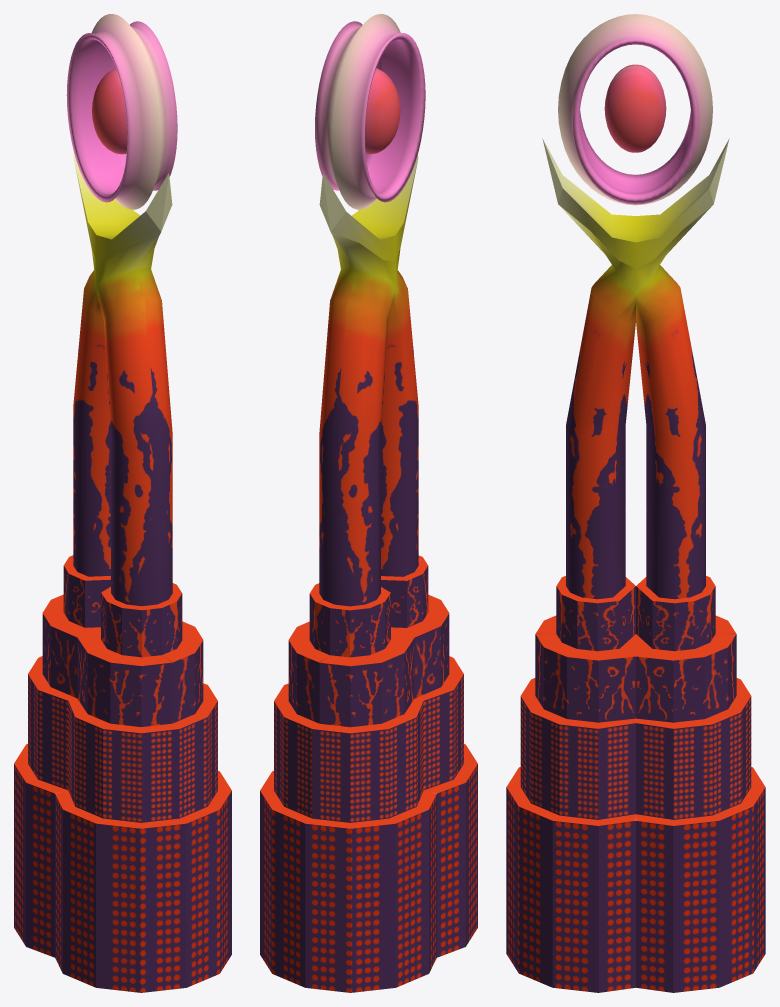
File: flat powered by orb.fbx
3 views of the same model, side by side, from view 1: azimuth 30°, elevation 25°; view 2: azimuth 150°, elevation 25°; view 3: azimuth 270°, elevation 25° (orthographic).
Parts seen in each view (by area): view 1: Cylinder.001; view 2: Cylinder.001; view 3: Cylinder.001.
Part boxes in pixels (box(x1,y1,x2,y2)): Cylinder.001: box(14, 14, 231, 992); Cylinder.001: box(260, 14, 477, 992); Cylinder.001: box(506, 14, 765, 992).
Size of the model in its own units: 200 by 1125 by 281.
Materials: 1 (1 with a texture image).
